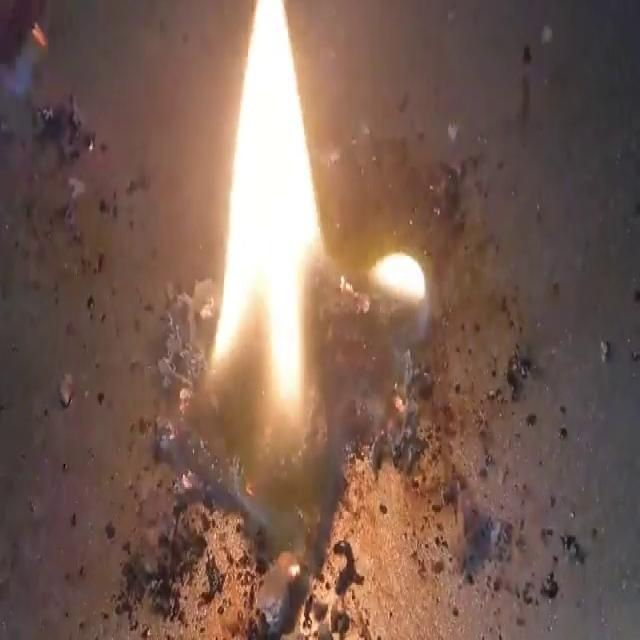Fire: (209, 4, 325, 438), (348, 152, 455, 376)
